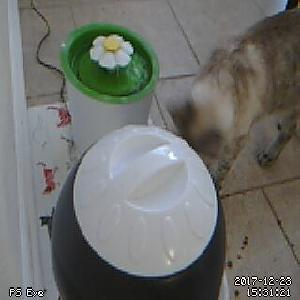cat: (168, 5, 300, 203)
fountain: (59, 23, 160, 105)
